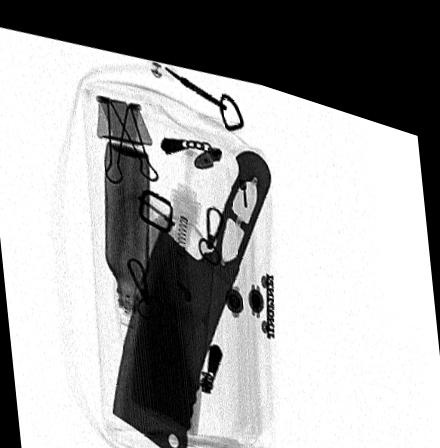Knife: (112, 133, 272, 446)
